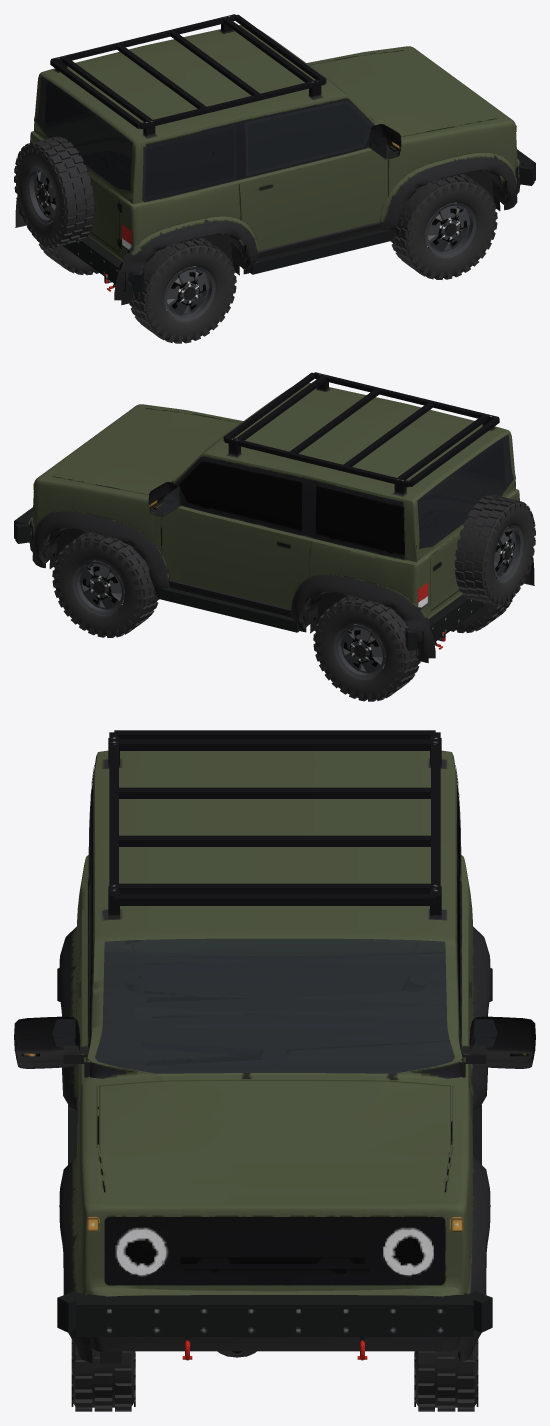
Rendered from trail_baked.glb.
3 renders of one model, top to bottom at view 1: azimuth 30°, elevation 25°; view 2: azimuth 150°, elevation 25°; view 3: azimuth 270°, elevation 25°, orthographic. The views are drawn at different scales.
Parts seen in each view (by area): view 1: body, hood, wheel_fr, wheel_rr, spare_0, wheel_rl, hide; view 2: body, hood, wheel_fl, wheel_rl, spare_0, wheel_rr, hide; view 3: body, hood, wheel_fl, wheel_fr.
Boxes of the visible parts, left/top/right/bottom form: body: left=15, top=14, right=535, bottom=305; hood: left=309, top=48, right=509, bottom=136; wheel_fr: left=390, top=174, right=497, bottom=279; wheel_rr: left=129, top=237, right=236, bottom=343; spare_0: left=14, top=136, right=95, bottom=247; wheel_rl: left=37, top=240, right=98, bottom=275; hide: left=458, top=170, right=500, bottom=214; body: left=14, top=372, right=534, bottom=663; hood: left=40, top=406, right=240, bottom=494; wheel_fl: left=52, top=532, right=159, bottom=637; wheel_rl: left=313, top=595, right=420, bottom=701; spare_0: left=454, top=494, right=535, bottom=605; wheel_rr: left=451, top=598, right=512, bottom=633; hide: left=49, top=528, right=91, bottom=572; body: left=14, top=730, right=535, bottom=1363; hood: left=97, top=1079, right=452, bottom=1206; wheel_fl: left=414, top=1339, right=478, bottom=1411; wheel_fr: left=71, top=1339, right=135, bottom=1411.
Size of the model in its own units: 3.99 by 1.88 by 2.21.
16 materials, 6 textured.
